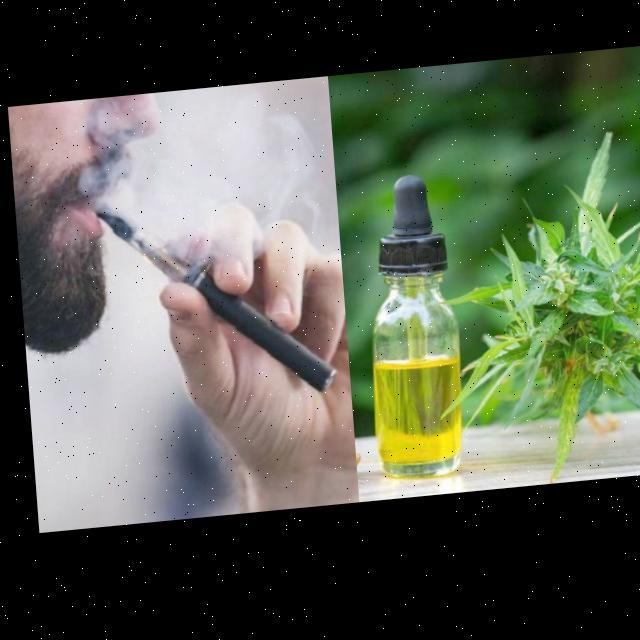vape: (92, 190, 330, 414)
